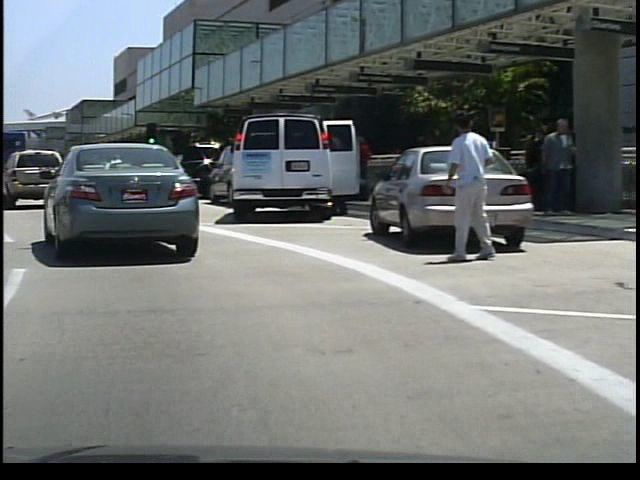person: (438, 105, 494, 265), (533, 116, 573, 217), (348, 130, 372, 201)
